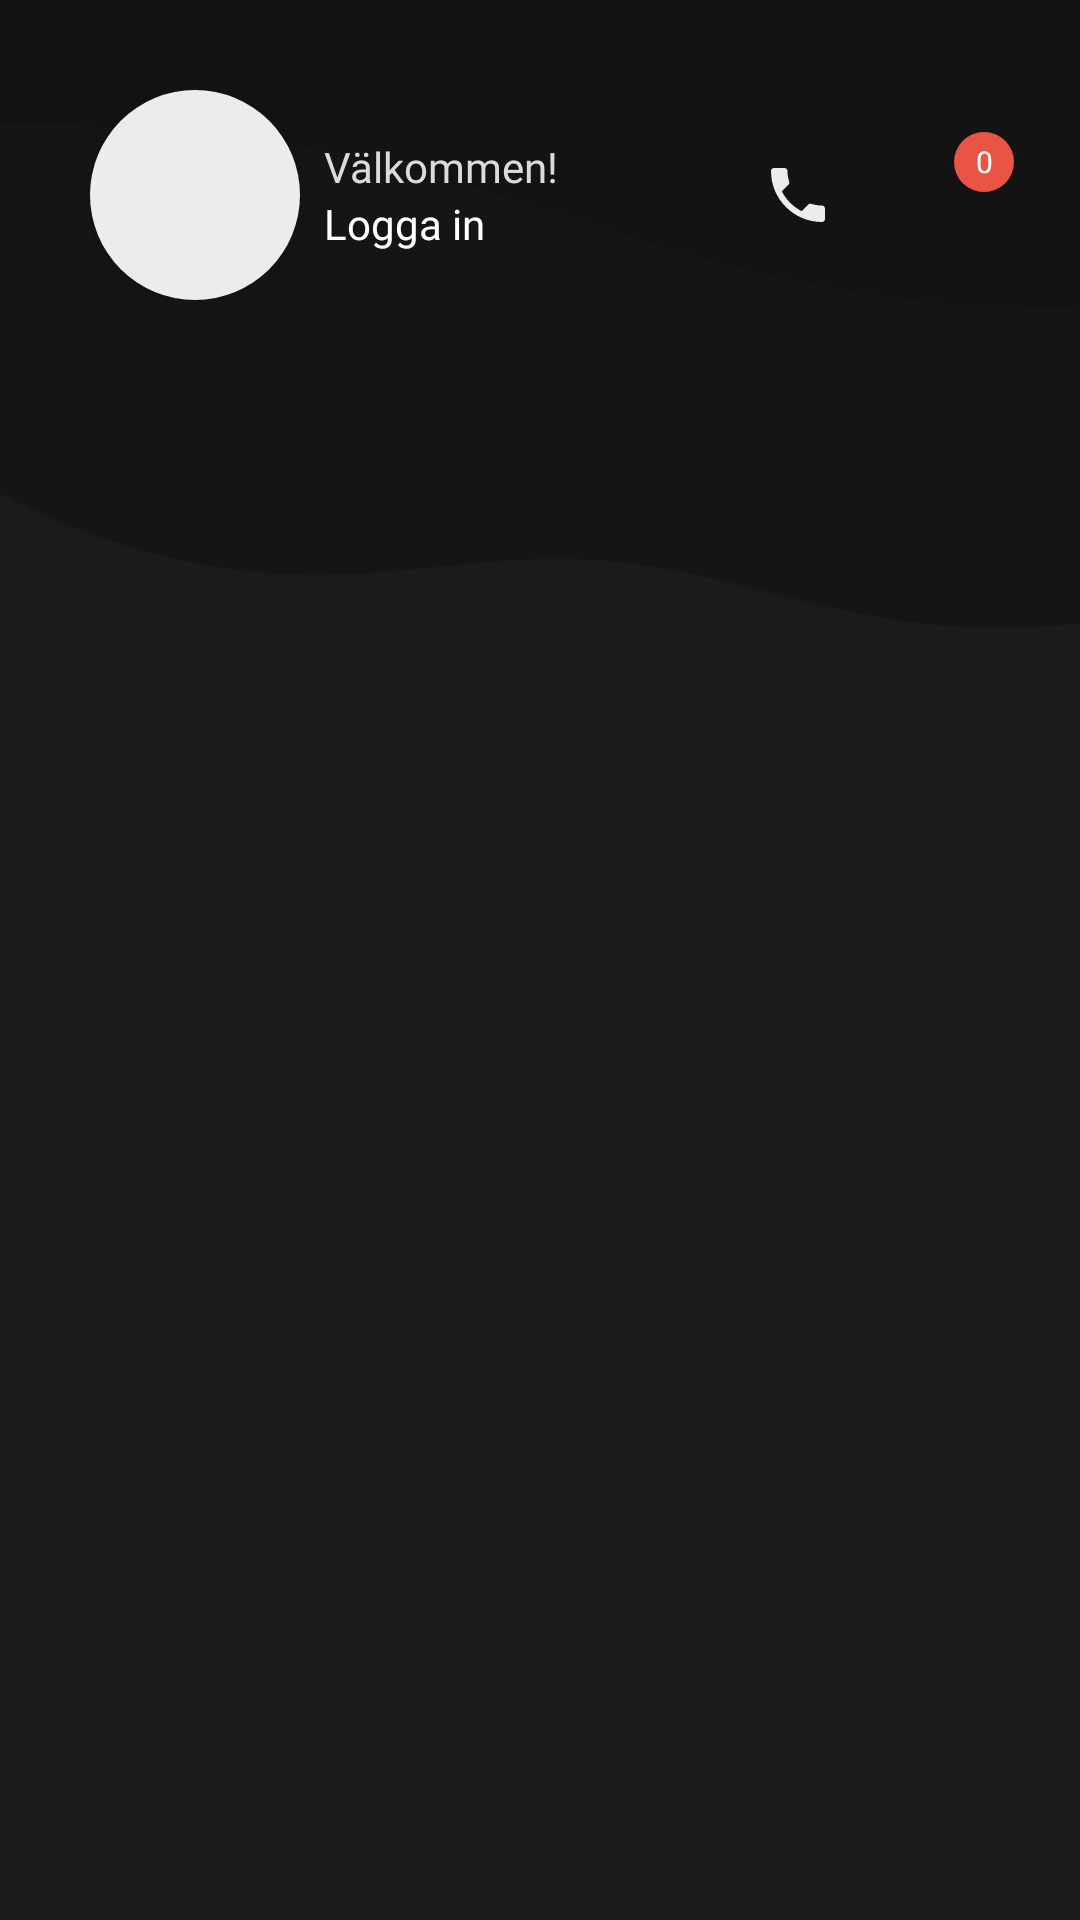

Named icons in this screenshot (1080px x 1920px) and their bounding boxes, [left=x1, top=y1, right=x2, bottom=y2]:
contact: [left=771, top=168, right=825, bottom=222]
